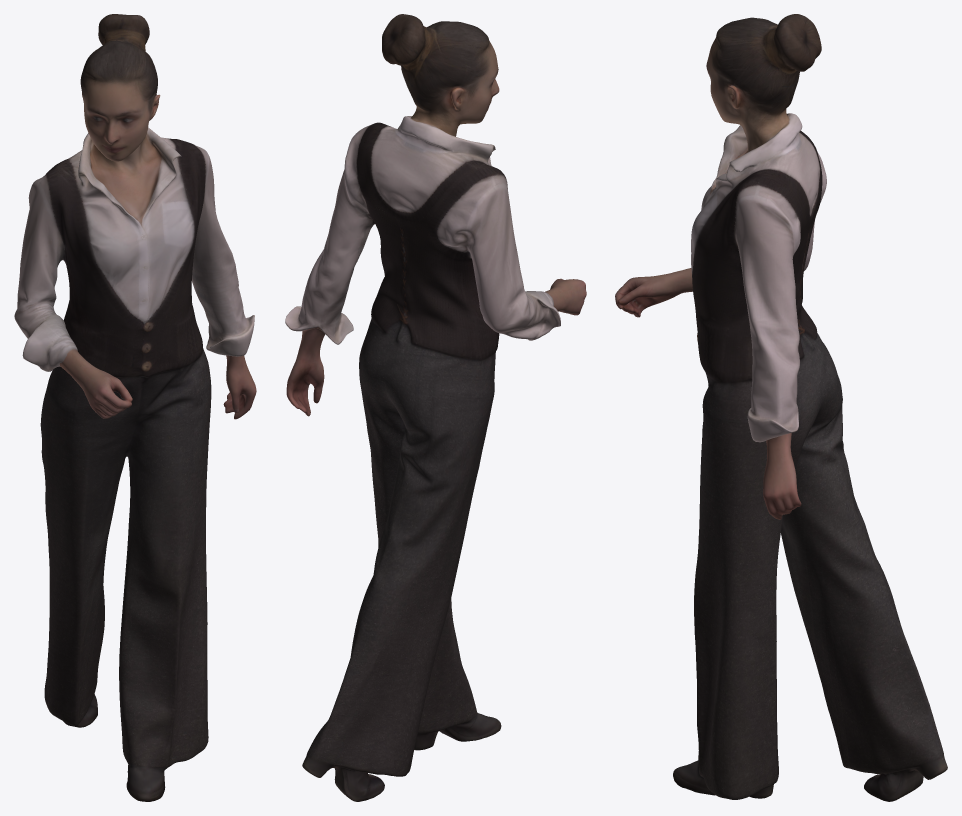
The model's file is f-producty.glb.
3 views of the same model, side by side, from view 1: azimuth 30°, elevation 25°; view 2: azimuth 150°, elevation 25°; view 3: azimuth 270°, elevation 25° (orthographic). The views are drawn at different scales.
Parts seen in each view (by area): view 1: Bus_Sum_Wom_RtWalk_244; view 2: Bus_Sum_Wom_RtWalk_244; view 3: Bus_Sum_Wom_RtWalk_244.
Part boxes in pixels (<box>): Bus_Sum_Wom_RtWalk_244: <box>14,14,256,801</box>; Bus_Sum_Wom_RtWalk_244: <box>285,14,586,801</box>; Bus_Sum_Wom_RtWalk_244: <box>615,14,947,801</box>.
Bounding box in the file's own units: 0.5785 × 1.63 × 0.6325.
1 material, 1 textured.
